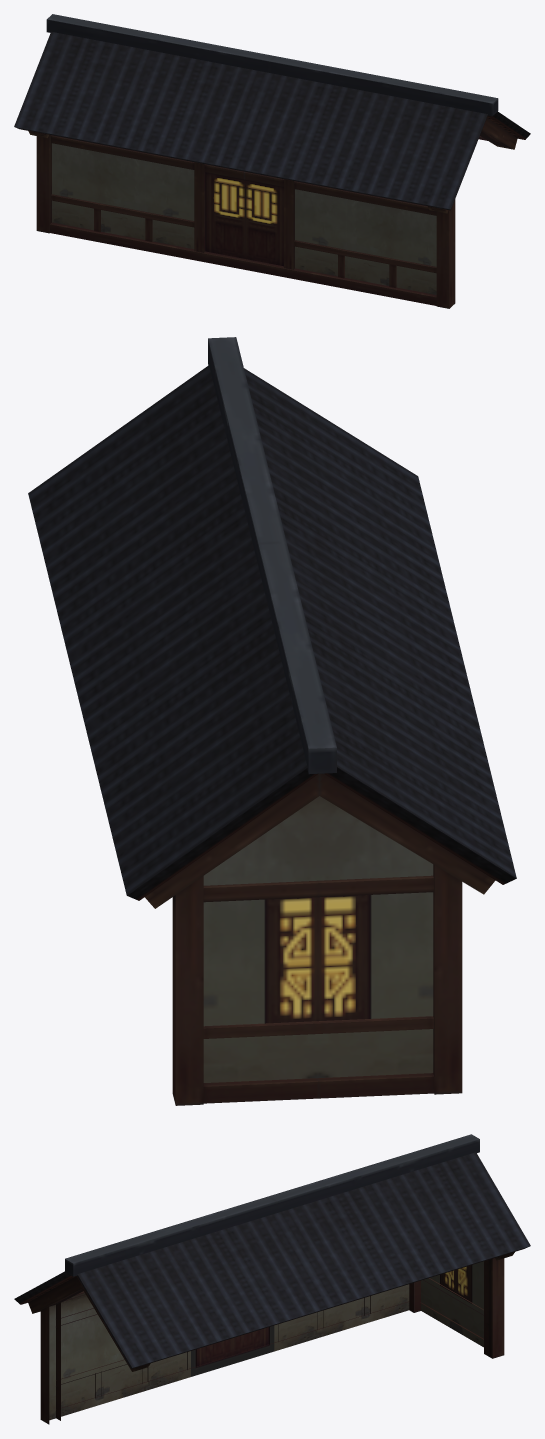
The model's file is Area_03_8.fbx.
3 renders of one model, top to bottom at view 1: azimuth 30°, elevation 25°; view 2: azimuth 150°, elevation 25°; view 3: azimuth 270°, elevation 25°, orthographic. The views are drawn at different scales.
Visible parts, largest first — view 1: Area_03_8; view 2: Area_03_8; view 3: Area_03_8.
Part boxes in pixels (x1,y1,x2,y2): Area_03_8: (14,14,530,308); Area_03_8: (28,337,516,1105); Area_03_8: (14,1134,530,1424).
Bounding box in the file's own units: 1858 × 855 × 2125.
